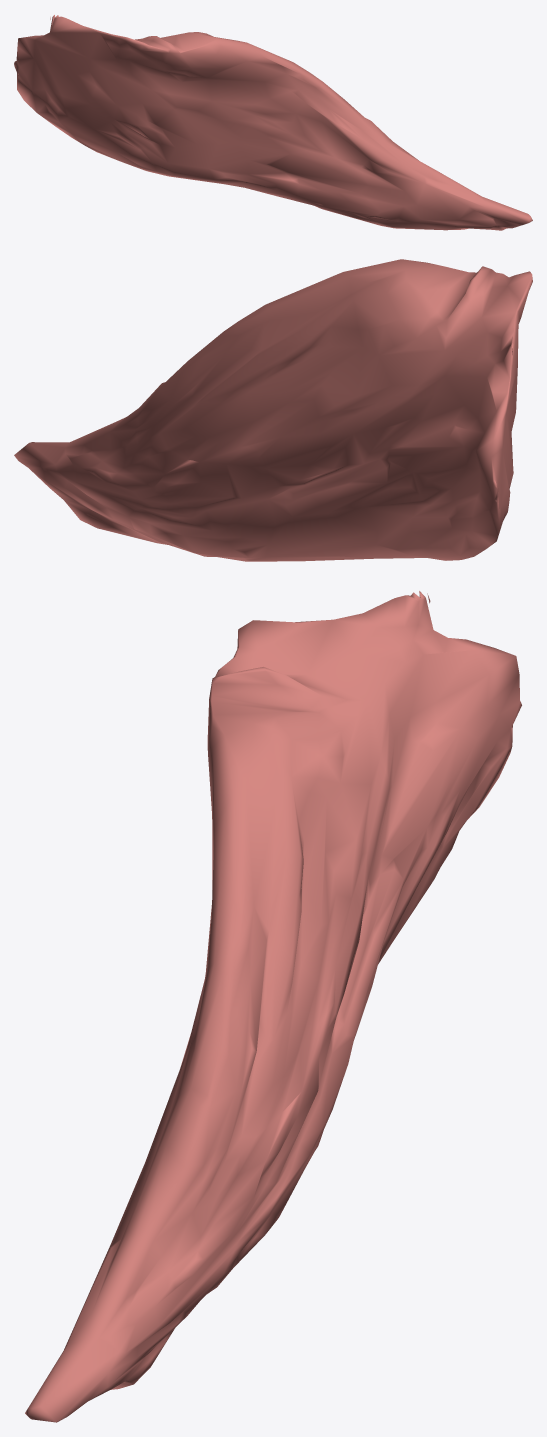
3 views of the same model, one above another, from view 1: azimuth 30°, elevation 25°; view 2: azimuth 150°, elevation 25°; view 3: azimuth 270°, elevation 25° (orthographic). The views are drawn at different scales.
Visible parts, largest first — view 1: ZA_e01a17dc1047a0ba; view 2: ZA_e01a17dc1047a0ba; view 3: ZA_e01a17dc1047a0ba.
Boxes of the visible parts, box(x1,y1,x2,y2) form: ZA_e01a17dc1047a0ba: box(14, 15, 532, 230); ZA_e01a17dc1047a0ba: box(14, 259, 532, 561); ZA_e01a17dc1047a0ba: box(25, 591, 521, 1422).
Size of the model in its own units: 0.11 by 0.0631 by 0.0593.
